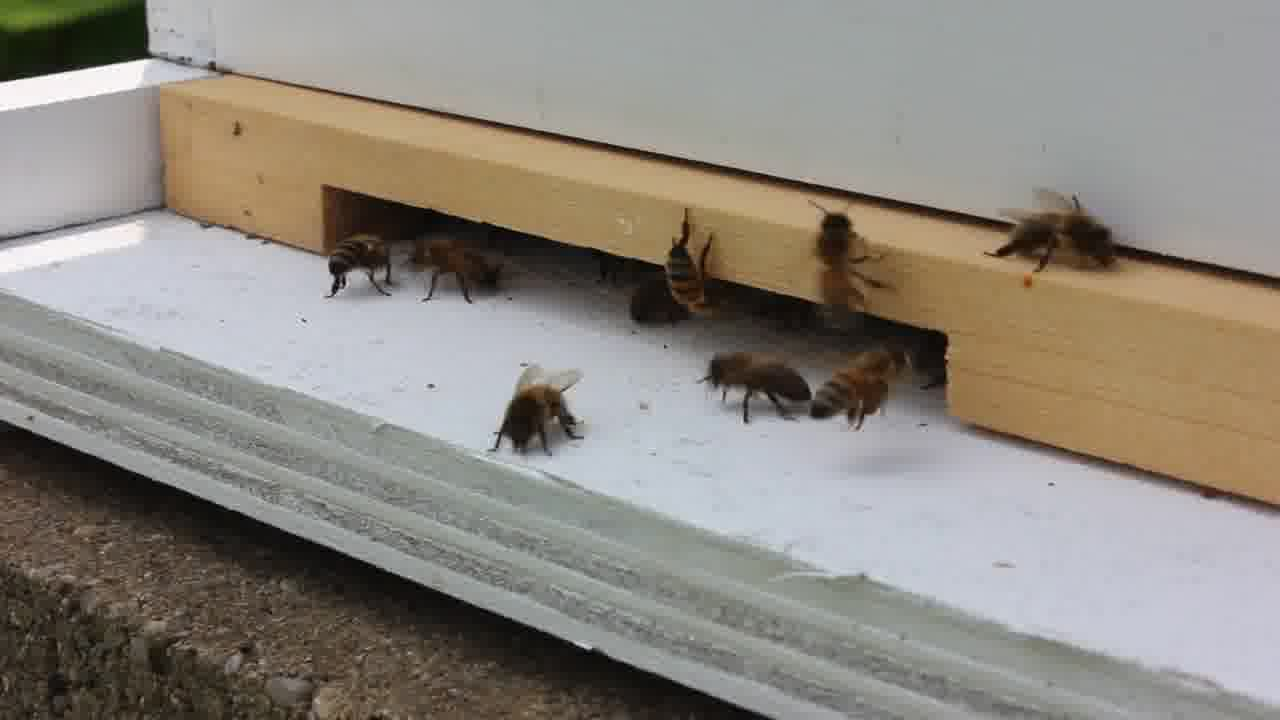pollen: (814, 346, 915, 429)
